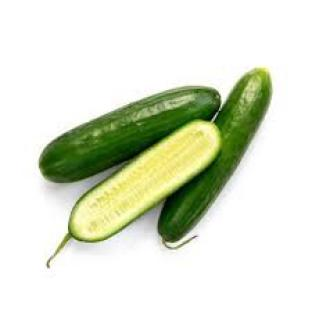Cucumber: (57, 121, 220, 252), (159, 68, 271, 242), (39, 86, 220, 181)
